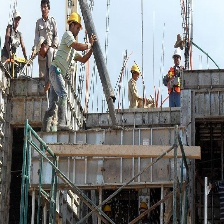helmet: (67, 11, 85, 33)
person: (48, 8, 82, 128), (4, 9, 24, 67), (166, 47, 184, 109), (128, 65, 143, 111)
